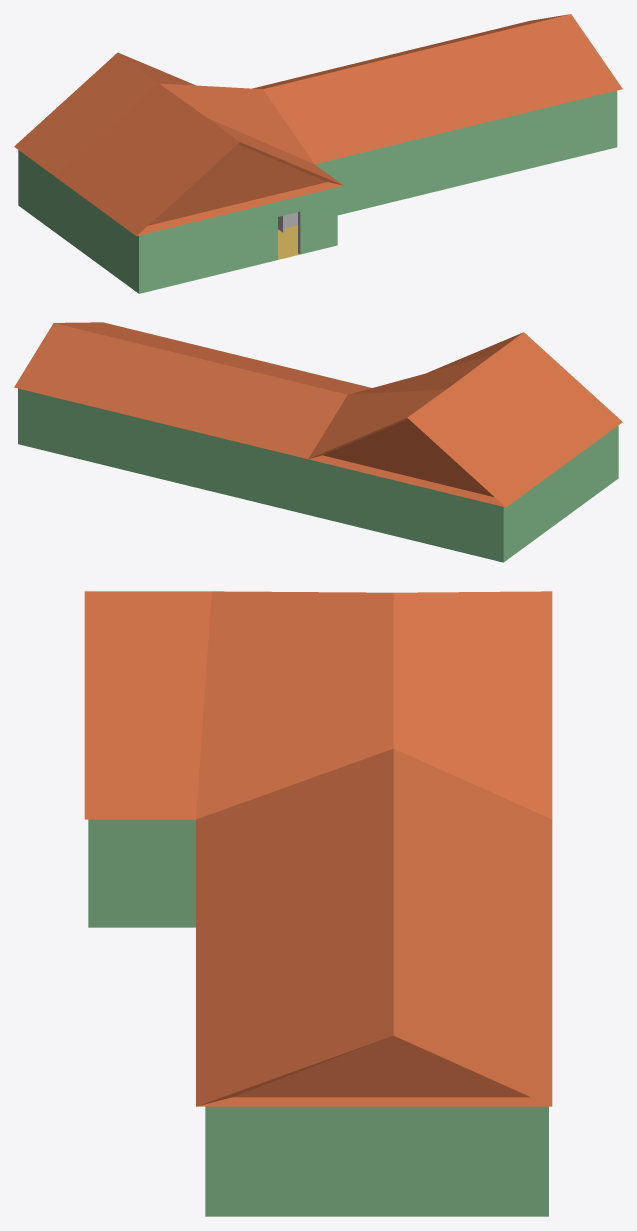
The model's file is house.fbx.
3 renders of one model, top to bottom at view 1: azimuth 30°, elevation 25°; view 2: azimuth 150°, elevation 25°; view 3: azimuth 270°, elevation 25°, orthographic. The views are drawn at different scales.
Visible parts, largest first — view 1: Roof, Exterior Wall, Floor, Main_House; view 2: Roof, Exterior Wall; view 3: Roof, Exterior Wall.
Part boxes in pixels (<box>): Roof: <box>14,14,622,236</box>; Exterior Wall: <box>18,90,617,293</box>; Floor: <box>278,225,299,259</box>; Main_House: <box>278,211,300,254</box>; Roof: <box>14,322,622,507</box>; Exterior Wall: <box>18,388,618,562</box>; Roof: <box>84,591,552,1106</box>; Exterior Wall: <box>88,819,548,1216</box>.
Size of the model in its own units: 948 by 225 by 390.
